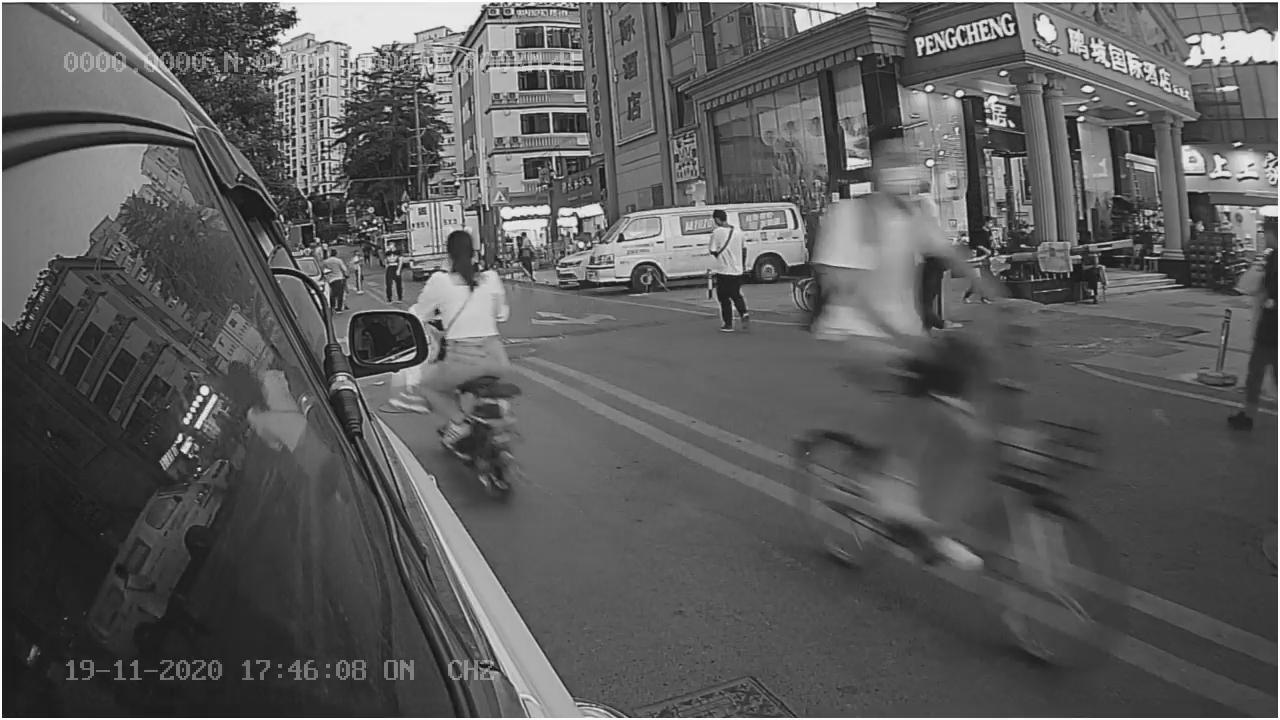person: (818, 140, 958, 357), (424, 229, 521, 384)
